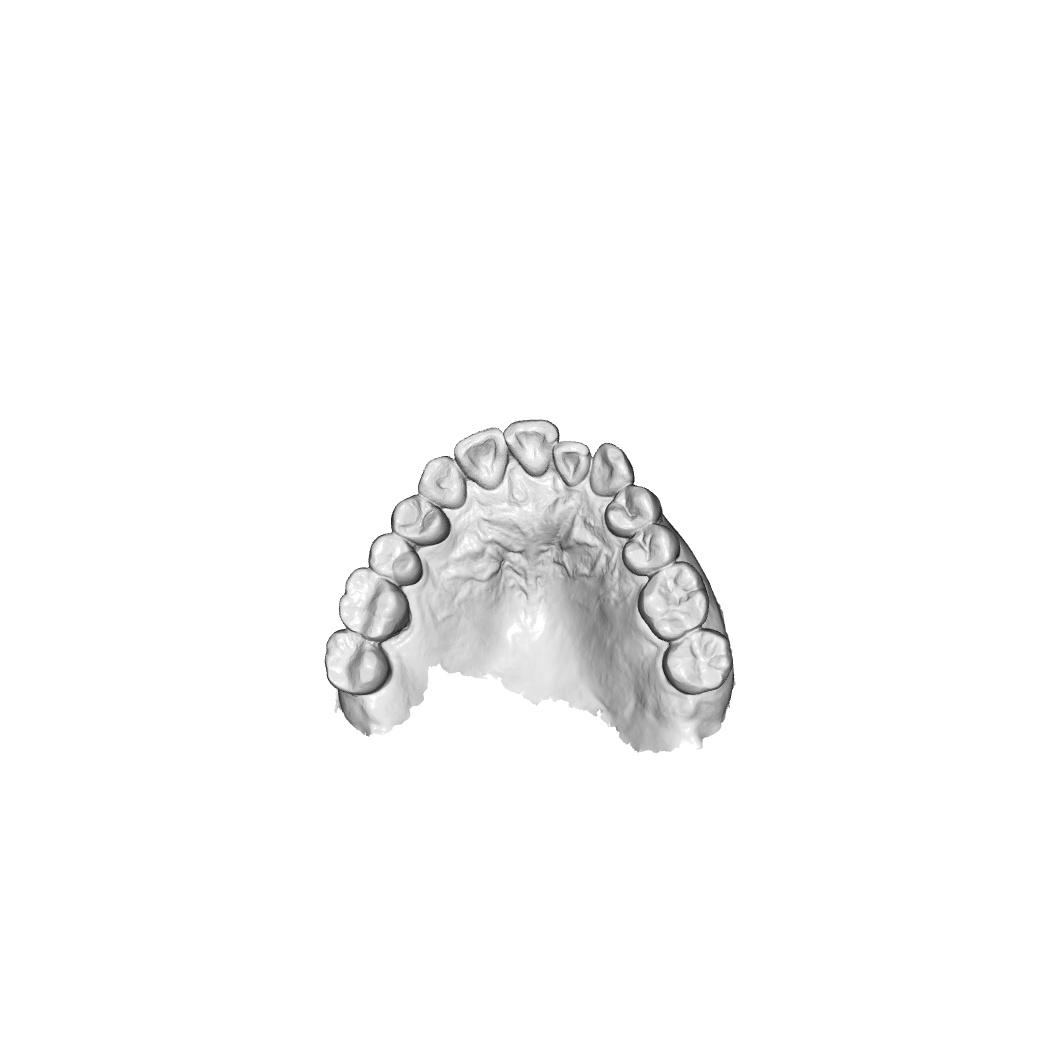canine: (417, 455, 467, 510), (590, 442, 636, 497)
incisor: (453, 426, 510, 491), (503, 418, 560, 478), (552, 440, 592, 487)
molar: (637, 561, 710, 642), (338, 567, 412, 644), (661, 627, 734, 696), (324, 628, 392, 696)
premolar: (621, 523, 681, 577), (604, 484, 663, 538), (391, 494, 451, 547), (368, 532, 424, 587)
